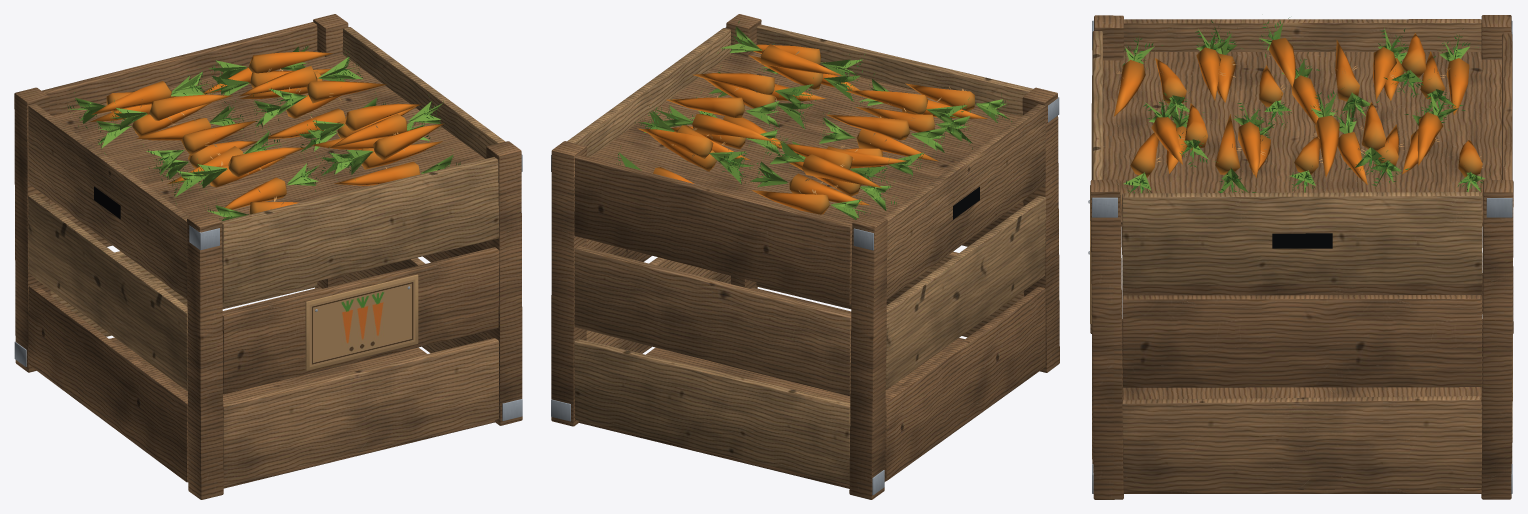
File: produce_box_carrot.glb
3 renders of one model, left to right at view 1: azimuth 30°, elevation 25°; view 2: azimuth 150°, elevation 25°; view 3: azimuth 270°, elevation 25°, orthographic. The views are drawn at different scales.
Visible parts, largest first — view 1: ProduceBoxCarrotBody, Carrot24, Carrot19, Carrot27, Carrot20, Carrot18, Carrot23, Carrot26, Carrot22, Carrot25, Carrot21, Carrot2 (+15 smaller); view 2: ProduceBoxCarrotBody, Carrot22, Carrot20, Carrot23, Carrot26, Carrot21, Carrot25, Carrot19, Carrot16, Carrot6, Carrot27, Carrot14 (+13 smaller); view 3: ProduceBoxCarrotBody, Carrot23, Carrot0, Carrot10, Carrot5, Carrot16, Carrot21, Carrot25, Carrot11, Carrot27, Carrot19, Carrot1 (+16 smaller).
Part boxes in pixels (x1,y1,x2,y2): ProduceBoxCarrotBody: (14,14,522,499); Carrot24: (110,94,232,133); Carrot19: (187,147,305,191); Carrot27: (208,51,333,88); Carrot20: (330,101,443,147); Carrot18: (333,123,444,180); Carrot23: (267,81,386,120); Carrot26: (91,68,212,114); Carrot22: (143,121,256,181); Carrot25: (238,50,356,96); Carrot21: (305,103,421,147); Carrot2: (224,158,320,209); ProduceBoxCarrotBody: (551,14,1059,499); Carrot22: (826,114,947,152); Carrot20: (717,21,842,75); Carrot23: (666,95,779,131); Carrot26: (765,136,881,187); Carrot21: (693,73,814,111); Carrot25: (654,99,773,141); Carrot19: (846,90,969,126); Carrot16: (752,189,870,219); Carrot6: (819,112,938,161); Carrot27: (637,128,749,172); Carrot14: (750,156,869,205); ProduceBoxCarrotBody: (1088,15,1513,499); Carrot23: (1310,88,1342,177); Carrot0: (1114,36,1162,116); Carrot10: (1335,39,1379,122); Carrot5: (1215,114,1256,192); Carrot16: (1433,28,1478,114); Carrot21: (1233,102,1271,178); Carrot25: (1346,102,1391,174); Carrot11: (1334,99,1367,184); Carrot27: (1417,93,1465,165); Carrot19: (1195,26,1234,100); Carrot1: (1122,132,1160,193).
Size of the model in its own units: 0.9826 by 0.8797 by 0.9871.
Materials: 11 (6 with a texture image).
